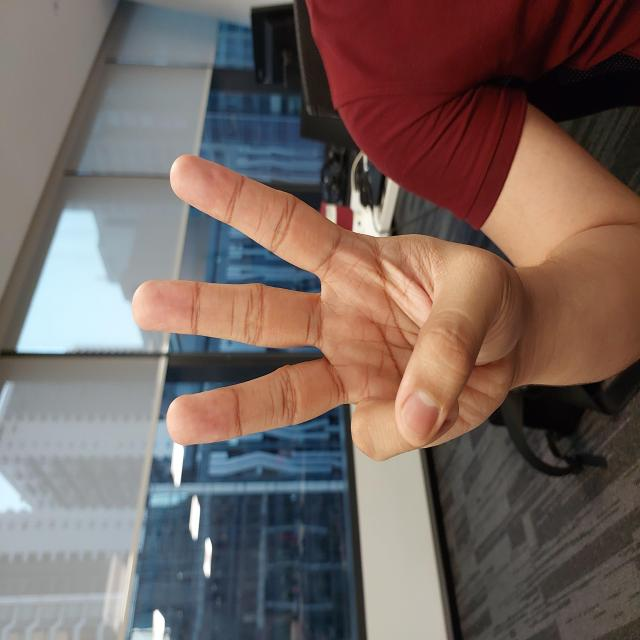W: (176, 130, 488, 526)
